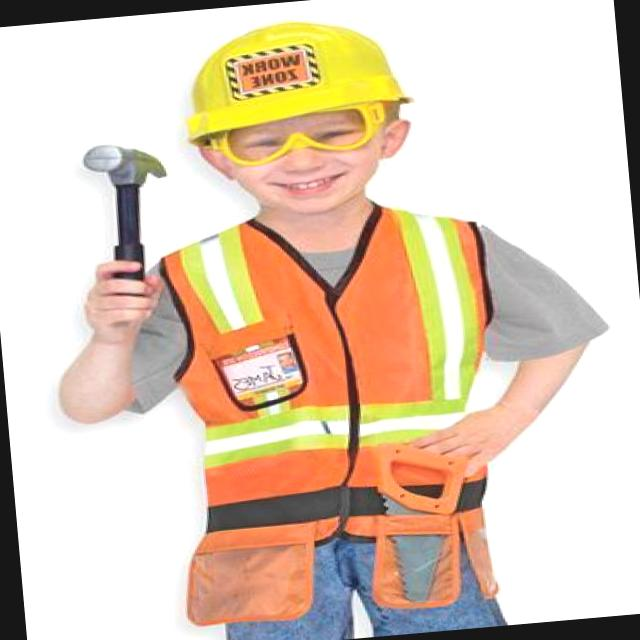helmet: (154, 9, 432, 152)
vest: (138, 171, 536, 549)
